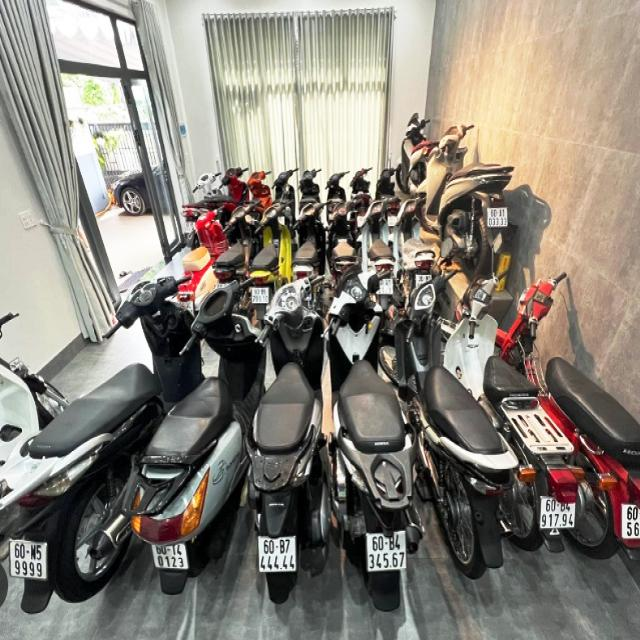license_plate: (368, 532, 408, 572), (11, 541, 48, 581), (260, 538, 296, 574), (152, 545, 189, 570)
